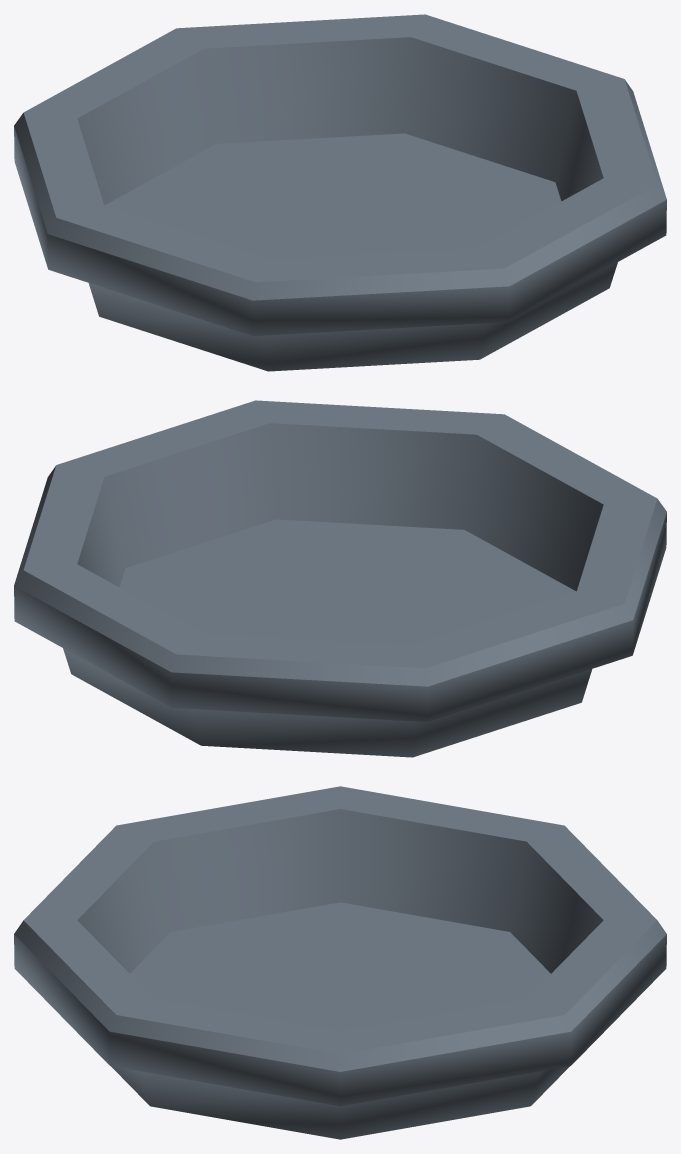
Rendered from Plate_2_C.fbx.
3 renders of one model, top to bottom at view 1: azimuth 30°, elevation 25°; view 2: azimuth 150°, elevation 25°; view 3: azimuth 270°, elevation 25°, orthographic. The views are drawn at different scales.
Visible parts, largest first — view 1: Plate_2_C; view 2: Plate_2_C; view 3: Plate_2_C.
Boxes of the visible parts, x1,y1,x2,y2 form: Plate_2_C: [14, 14, 666, 371]; Plate_2_C: [14, 400, 666, 757]; Plate_2_C: [14, 786, 666, 1139].
Bounding box in the file's own units: 19.41 × 3.47 × 19.41.
